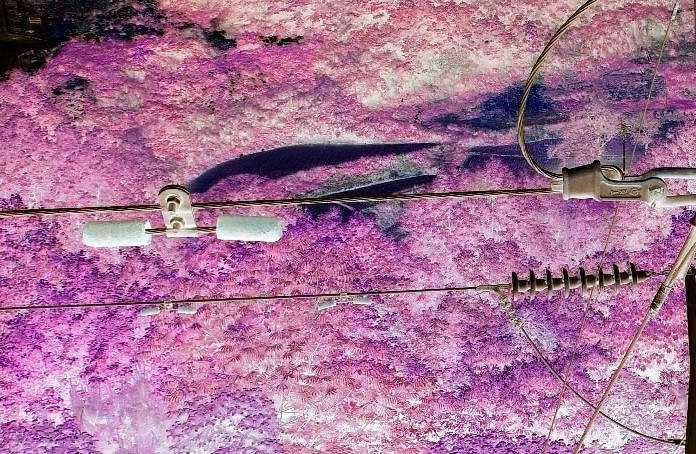Shockproof hammer: (76, 181, 286, 251)
